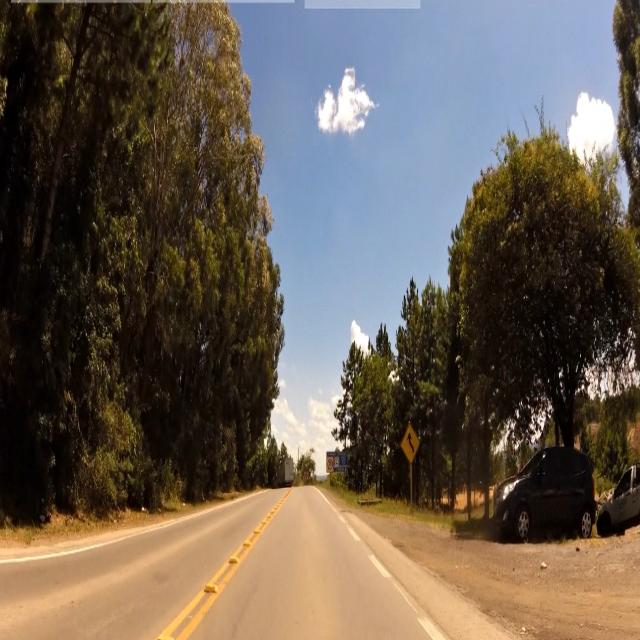A-5a: (402, 426, 421, 461)
